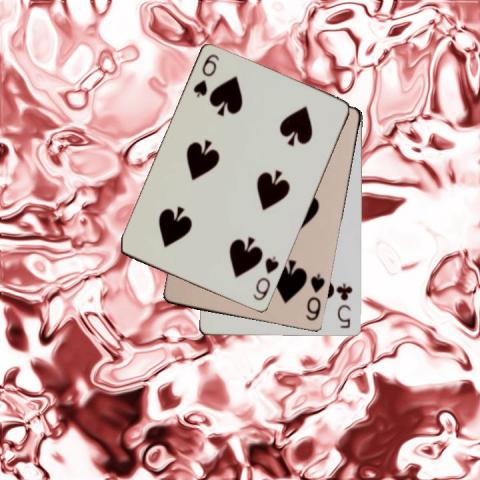5c: (335, 281, 354, 330)
6s: (250, 253, 281, 303), (190, 52, 221, 100), (302, 271, 326, 323)
